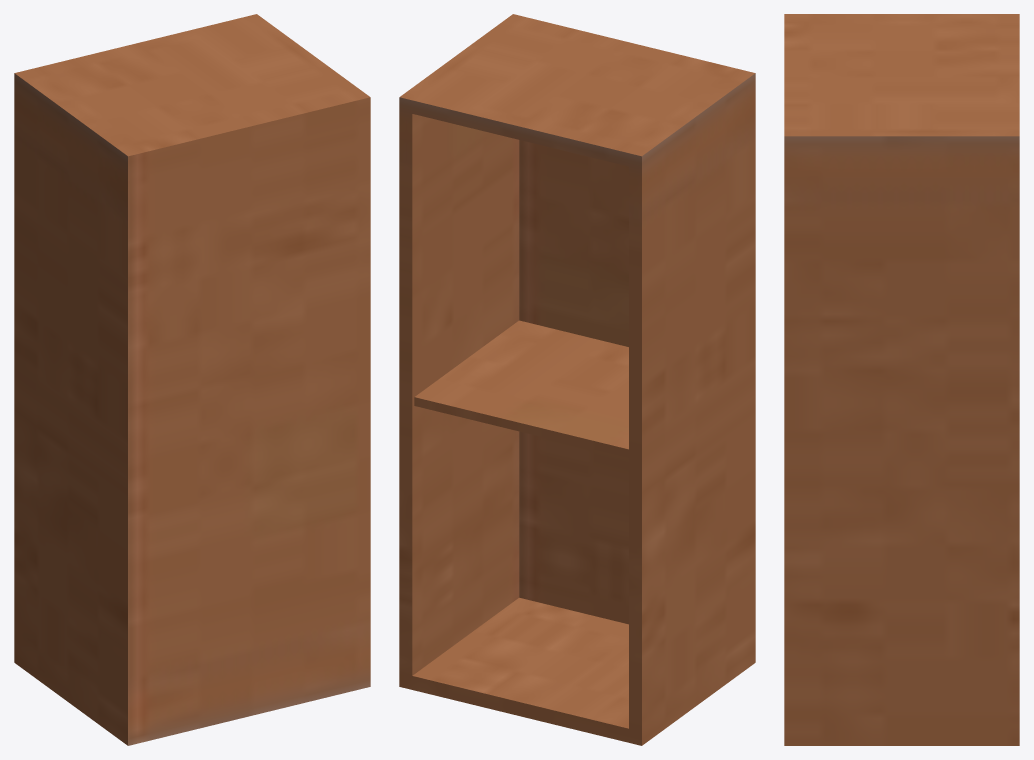
Rendered from Closet12.glb.
3 renders of one model, left to right at view 1: azimuth 30°, elevation 25°; view 2: azimuth 150°, elevation 25°; view 3: azimuth 270°, elevation 25°, orthographic. The views are drawn at different scales.
Visible parts, largest first — view 1: Closet12_model; view 2: Closet12_model; view 3: Closet12_model.
Part boxes in pixels (<box>): Closet12_model: <box>14,14,370,745</box>; Closet12_model: <box>399,14,755,745</box>; Closet12_model: <box>784,14,1019,745</box>.
Size of the model in its own units: 2.41 by 5.6 by 1.96.
1 material, 1 textured.
